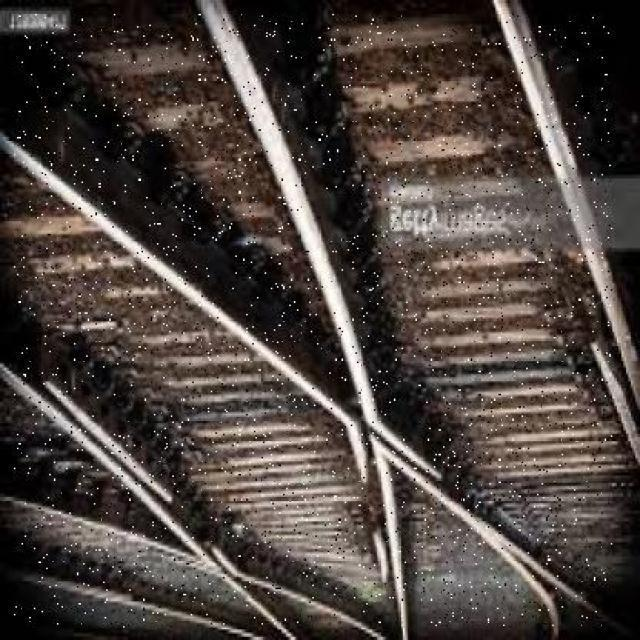rail: (14, 14, 612, 628)
